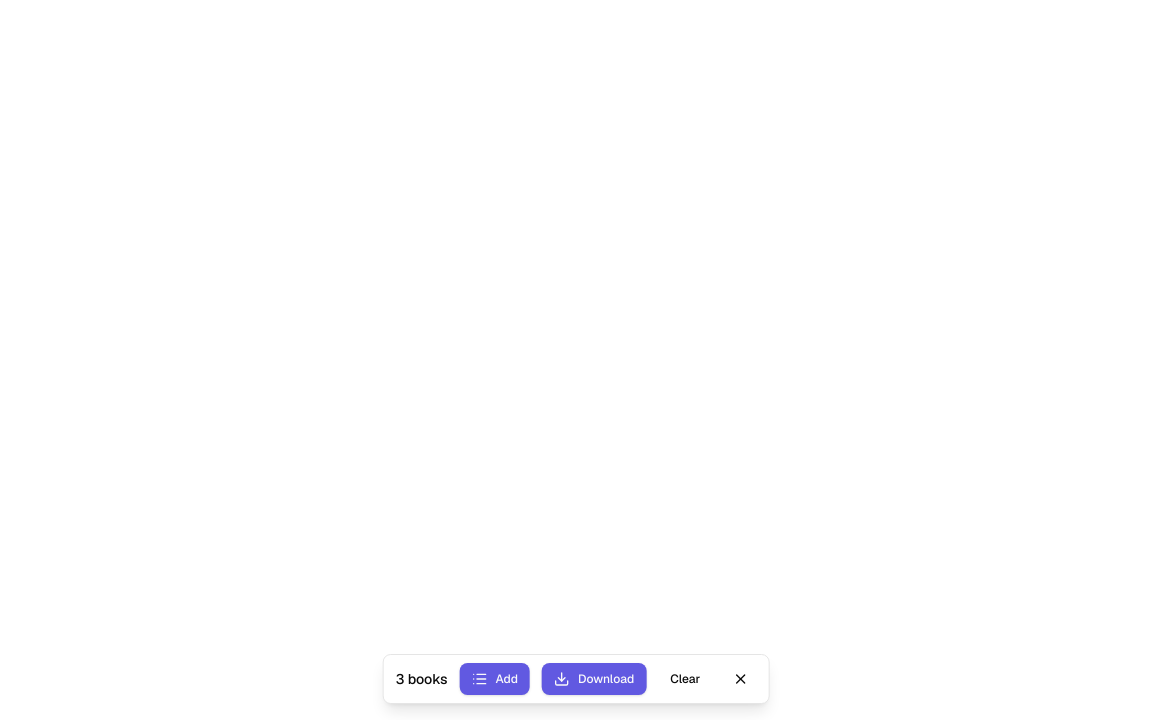
Test: SelectionToolbar read-only user › still offers the lists the user can edit
Click the button "Add".
click(495, 679)  # box [459,663,530,695]
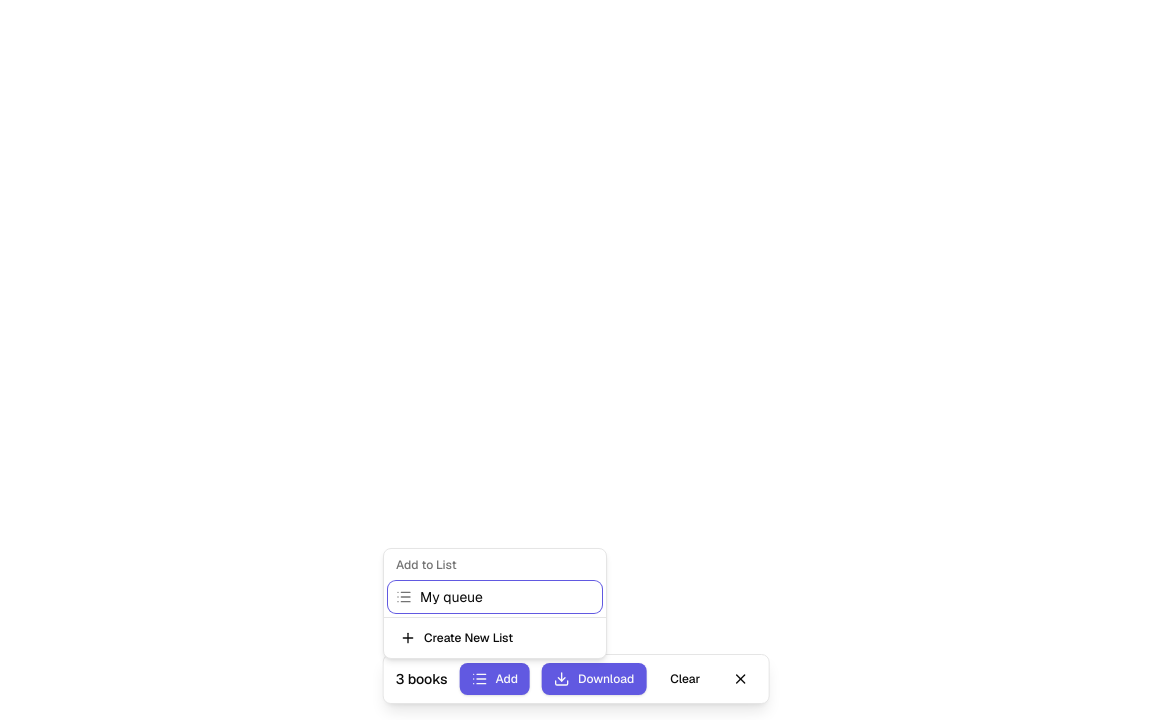
Check: the button "My queue" is shown, box [388,581,602,613]
Check: the button "Create New List" is shown, box [388,622,602,654]
